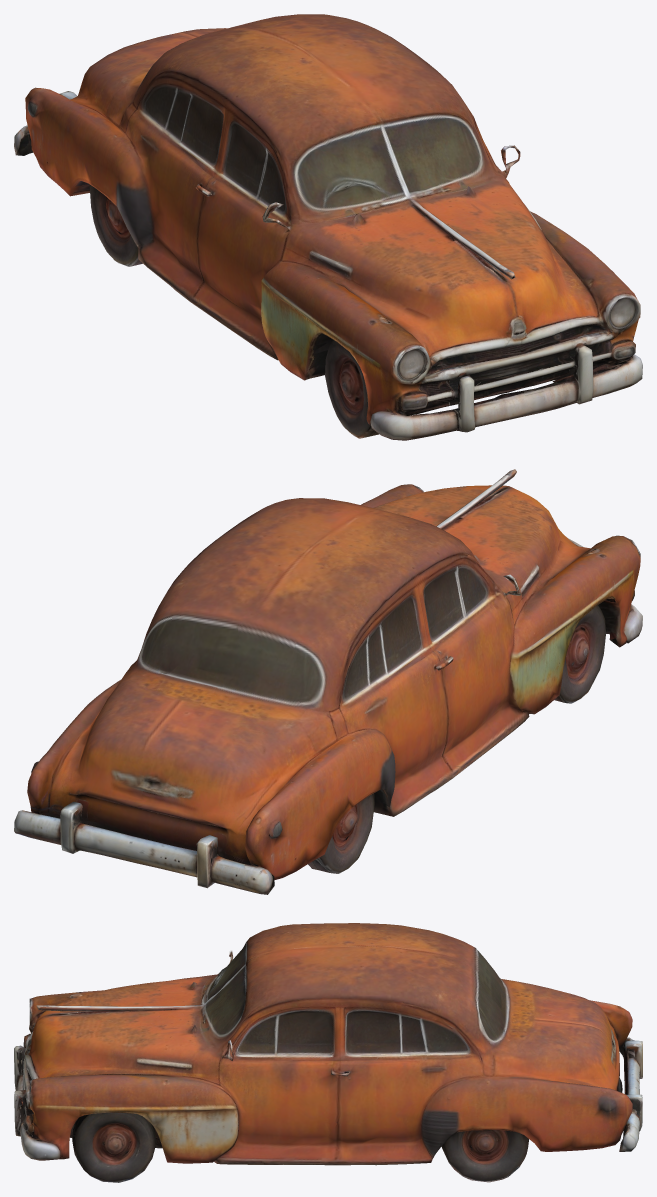
File: obstacle_rusty.glb
3 views of the same model, one above another, from view 1: azimuth 30°, elevation 25°; view 2: azimuth 150°, elevation 25°; view 3: azimuth 270°, elevation 25° (orthographic). The views are drawn at different scales.
Parts seen in each view (by area): view 1: Object_4; view 2: Object_4; view 3: Object_4.
Boxes of the visible parts, x1=… form: Object_4: x1=14, y1=14, x2=642, y2=440; Object_4: x1=14, y1=469, x2=642, y2=894; Object_4: x1=14, y1=923, x2=642, y2=1182.
Bounding box in the file's own units: 0.7766 × 0.6742 × 2.
1 material, 1 textured.
